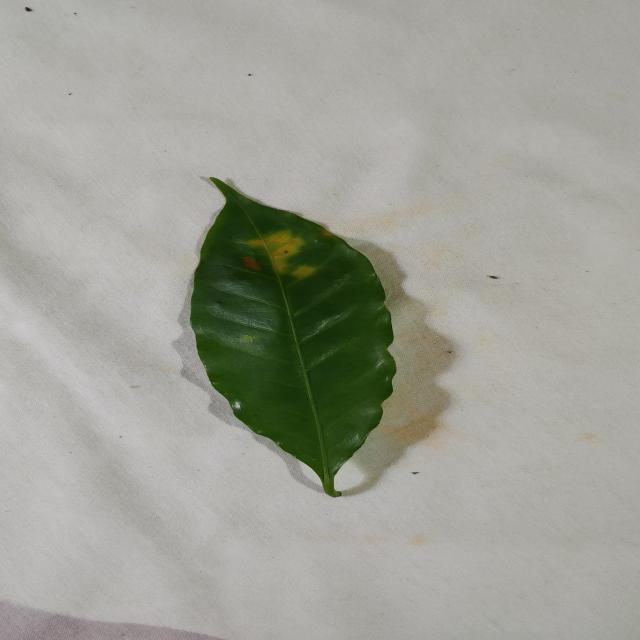Enfermedad-Roya: (188, 178, 397, 497)
